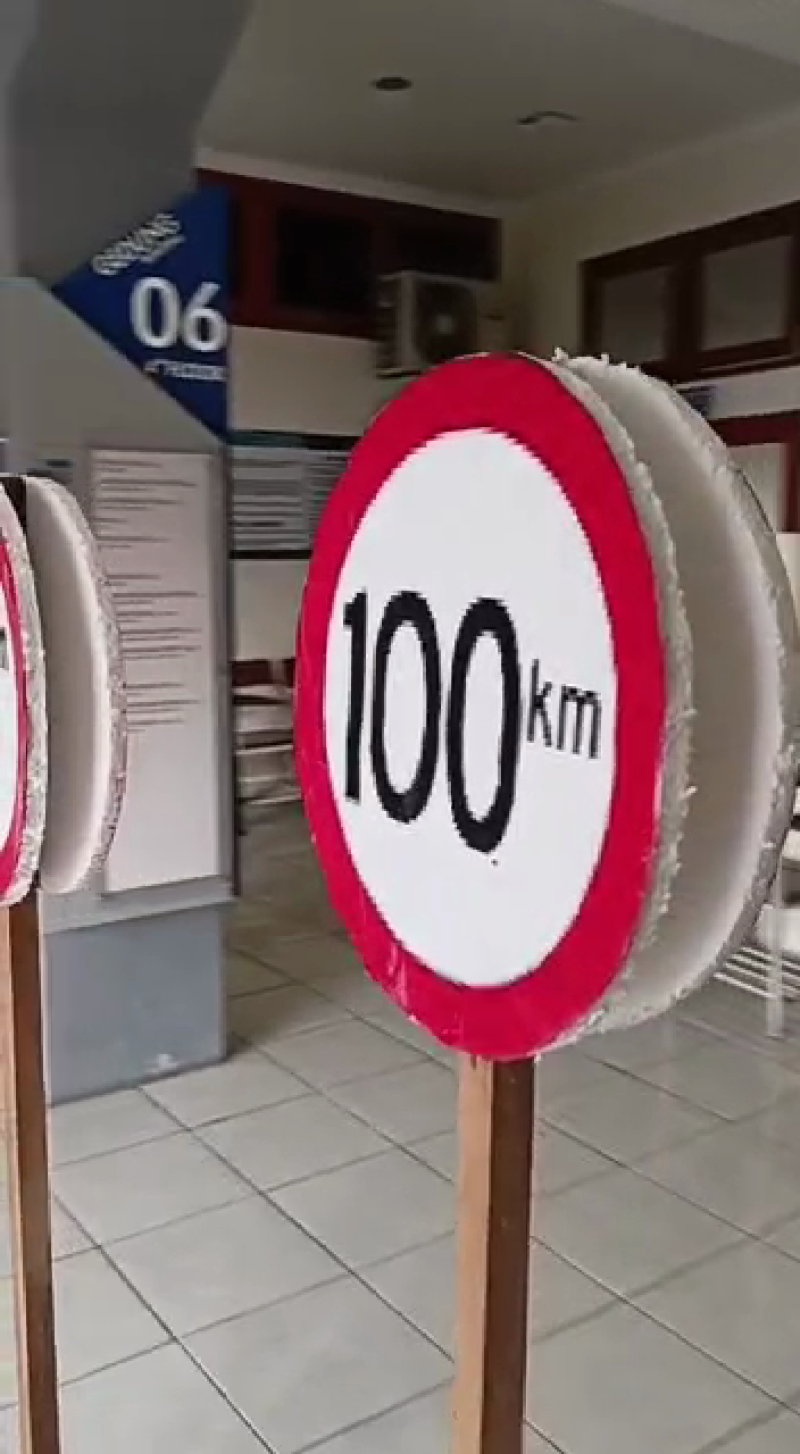batas maksimal 100kmperjam: (275, 328, 685, 1079)
